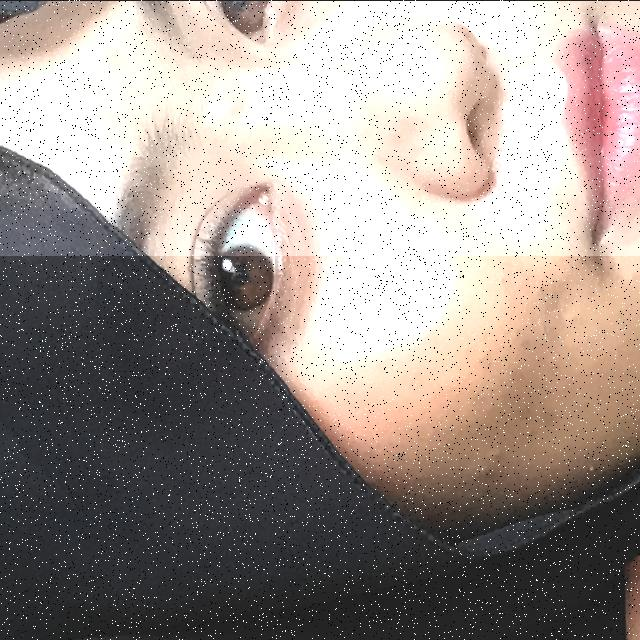mendengar: (0, 255, 640, 640)
